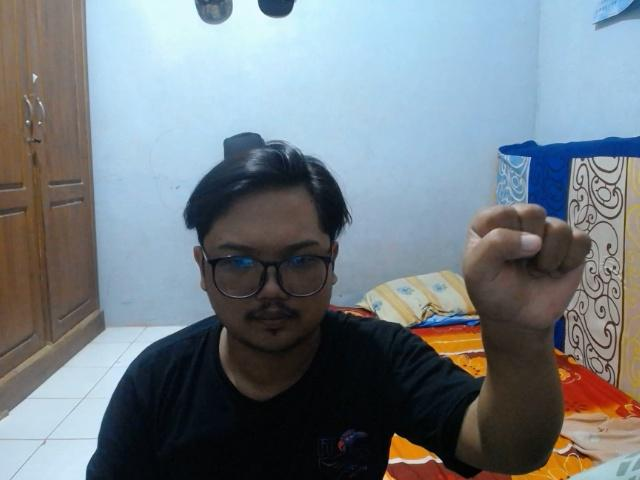Grab: (458, 198, 598, 339)
